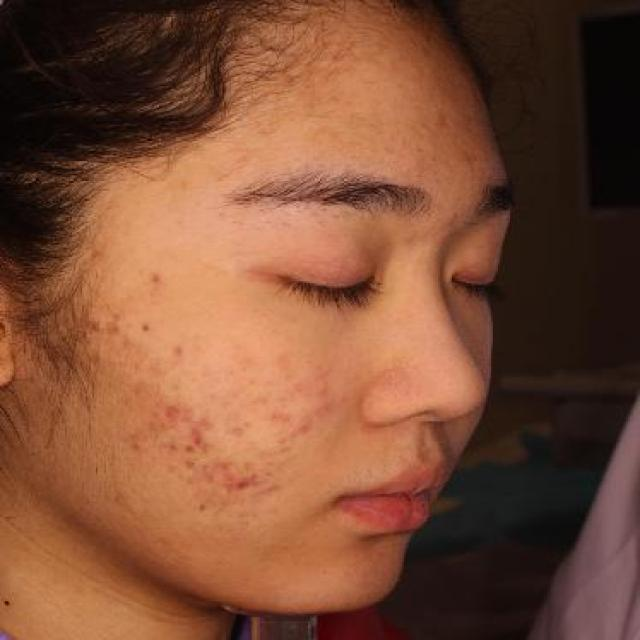dark spot: (154, 392, 187, 426), (226, 474, 253, 497), (194, 494, 212, 515)
papules: (148, 266, 170, 292)
